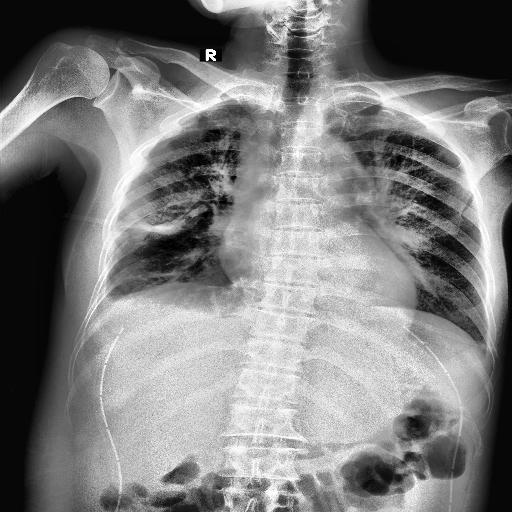0- Aortic enlargement: (299, 132, 369, 206), (323, 138, 378, 215)
10- Pleural effusion: (85, 284, 127, 312), (91, 285, 119, 315), (93, 291, 119, 312)
11- Pleural thickening: (154, 107, 199, 150), (85, 284, 127, 312), (91, 285, 119, 315), (93, 291, 119, 312)
13- Pulmonary fibrosis: (118, 215, 206, 235), (116, 218, 184, 237), (115, 265, 191, 281), (142, 218, 196, 234)
